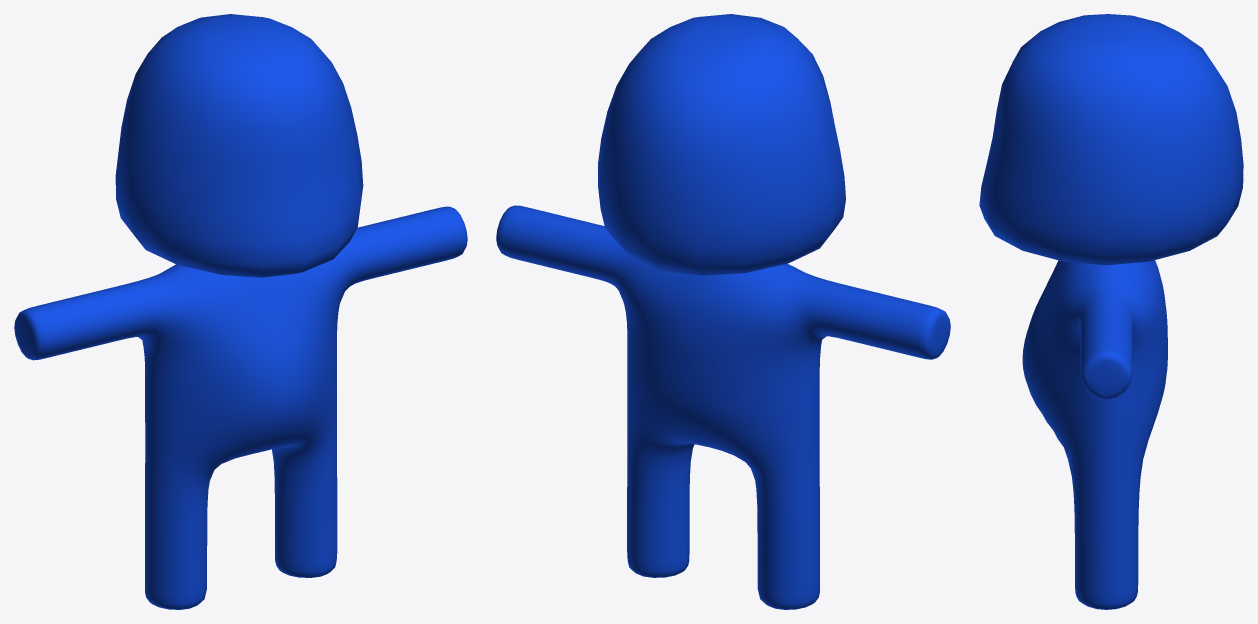
File: body_model.glb
3 views of the same model, side by side, from view 1: azimuth 30°, elevation 25°; view 2: azimuth 150°, elevation 25°; view 3: azimuth 270°, elevation 25° (orthographic). The views are drawn at different scales.
Visible parts, largest first — view 1: Cylinder.001; view 2: Cylinder.001; view 3: Cylinder.001.
Part boxes in pixels (box(x1,y1,x2,y2)): Cylinder.001: box(14, 14, 467, 609); Cylinder.001: box(496, 14, 950, 609); Cylinder.001: box(979, 14, 1243, 609).
Bounding box in the file's own units: 4.1 × 5.01 × 2.22.
